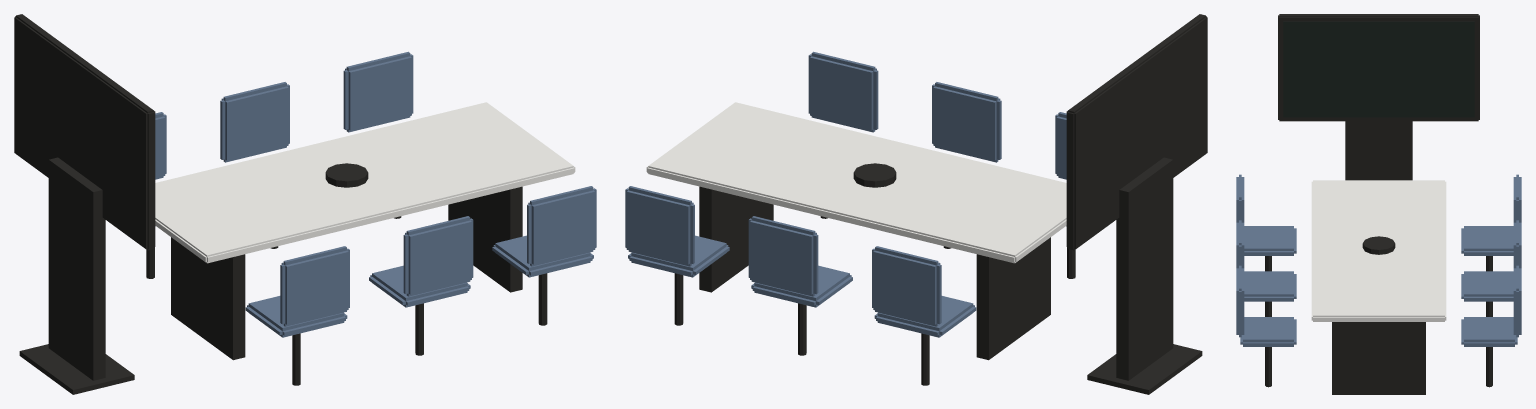
File: meeting.glb
The picture shows the model from 3 angles, left to right: view 1: azimuth 30°, elevation 25°; view 2: azimuth 150°, elevation 25°; view 3: azimuth 270°, elevation 25°; orthographic projection. The views are drawn at different scales.
Visible parts, largest first — view 1: Table, TvFrame, TvStand, TableLegA, MBack10, MBack21, MBack20, MBack00, MBack11, TableLegB, TvFoot, MSeat00 (+5 smaller); view 2: Table, TvFrame, TvStand, TableLegA, MBack11, MBack20, MBack21, MBack01, MBack10, TableLegB, TvFoot, MSeat01 (+5 smaller); view 3: Table, Screen.002, TableLegB, TvStand, TvFrame, MSeat10, MSeat11, MSeat20, MSeat21, MSeat00, MSeat01, MBack20 (+8 smaller).
Boxes of the visible parts, x1,y1,x2,y2 form: Table: [155, 102, 575, 263]; TvFrame: [14, 14, 155, 250]; TvStand: [48, 157, 105, 380]; TableLegA: [171, 237, 245, 360]; MBack10: [403, 216, 473, 296]; MBack21: [343, 51, 413, 132]; MBack20: [527, 186, 596, 266]; MBack00: [280, 246, 349, 326]; MBack11: [220, 82, 289, 162]; TableLegB: [448, 186, 522, 292]; TvFoot: [19, 344, 134, 394]; MSeat00: [245, 296, 347, 337]; Table: [646, 102, 1066, 263]; TvFrame: [1066, 14, 1207, 250]; TvStand: [1116, 157, 1173, 380]; TableLegA: [976, 237, 1050, 360]; MBack11: [748, 216, 818, 296]; MBack20: [808, 51, 878, 132]; MBack21: [625, 186, 694, 266]; MBack01: [872, 246, 941, 326]; MBack10: [932, 82, 1001, 162]; TableLegB: [699, 186, 773, 292]; TvFoot: [1087, 344, 1202, 394]; MSeat01: [874, 296, 976, 337]; Table: [1311, 180, 1446, 321]; Screen.002: [1283, 21, 1474, 117]; TableLegB: [1332, 322, 1425, 394]; TvStand: [1345, 121, 1412, 180]; TvFrame: [1278, 14, 1479, 121]; MSeat10: [1244, 271, 1296, 301]; MSeat11: [1461, 271, 1513, 301]; MSeat20: [1240, 317, 1296, 346]; MSeat21: [1461, 317, 1517, 346]; MSeat00: [1244, 226, 1296, 255]; MSeat01: [1461, 226, 1513, 255]; MBack20: [1236, 265, 1244, 337].
Bounding box in the file's own units: 3.15 × 1.88 × 2.12.
